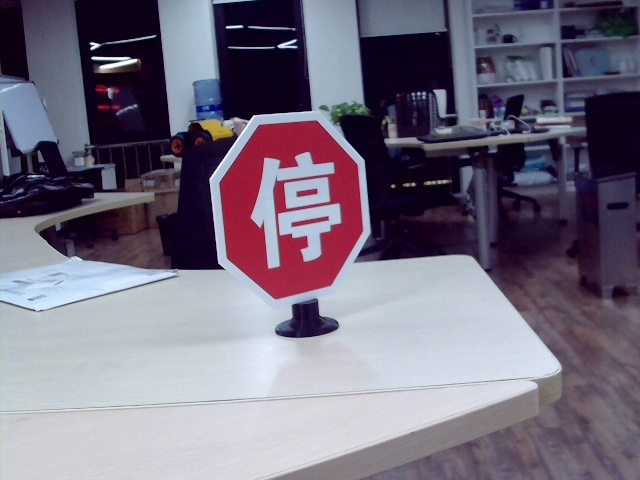stop: (249, 152, 340, 268)
